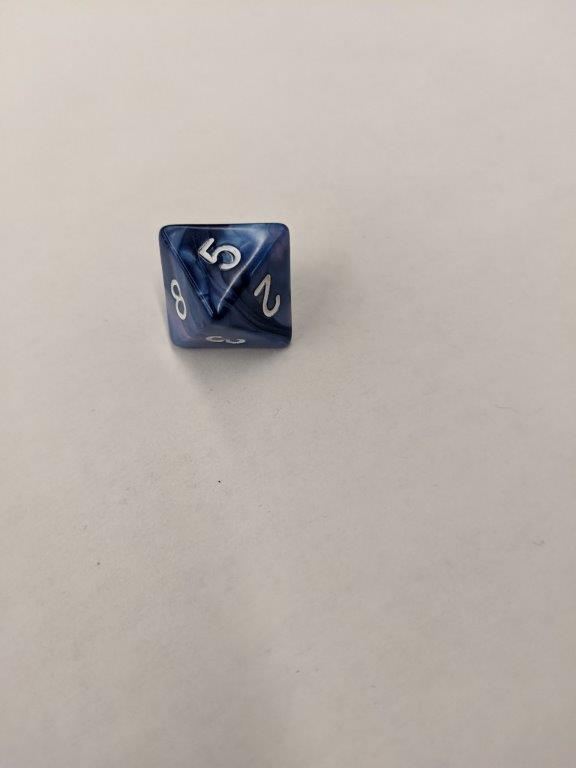d8-5: (155, 221, 292, 356)
